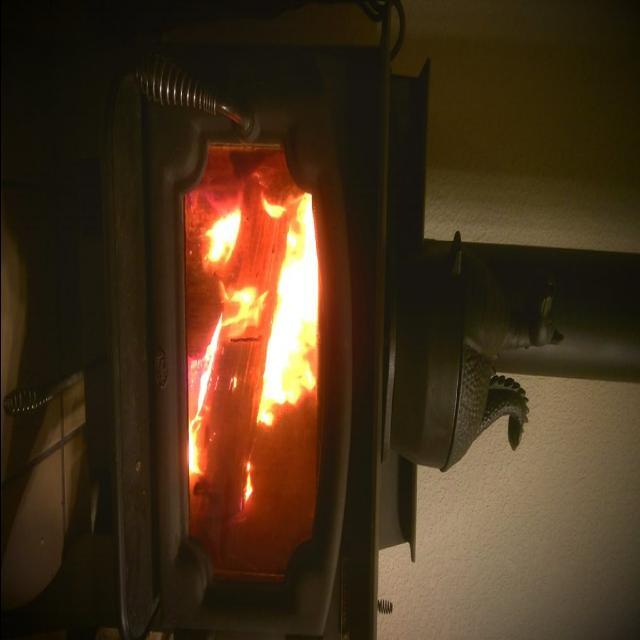Fire: (182, 162, 322, 514)
